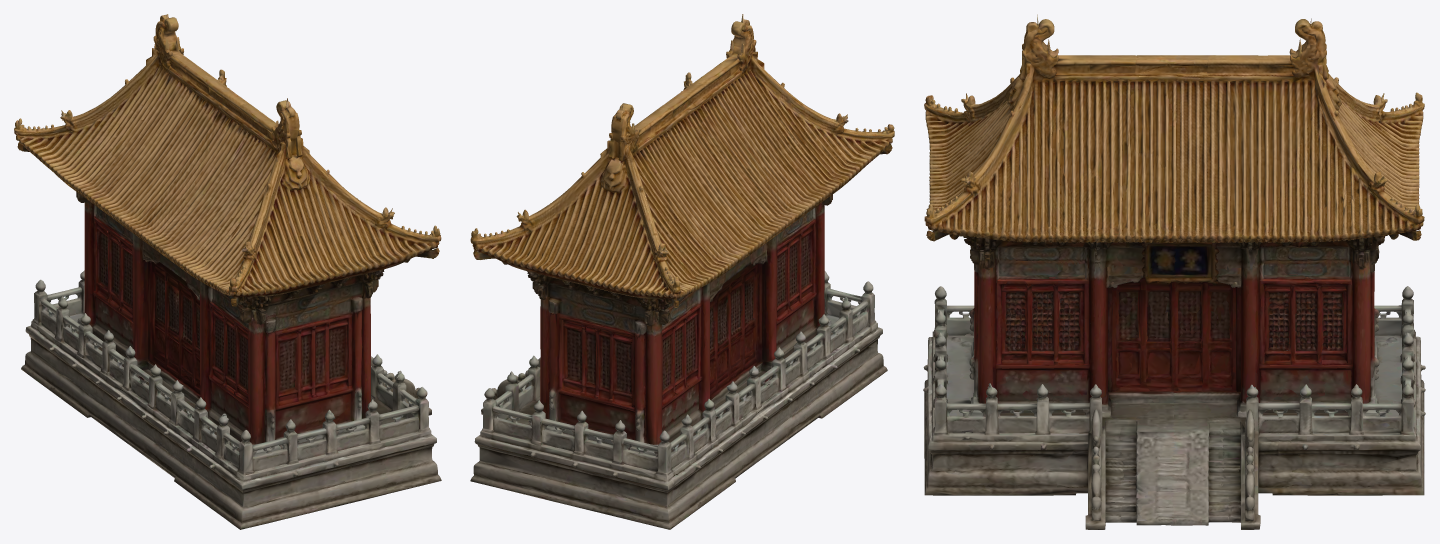
Rendered from hall-b.glb.
3 renders of one model, left to right at view 1: azimuth 30°, elevation 25°; view 2: azimuth 150°, elevation 25°; view 3: azimuth 270°, elevation 25°, orthographic. The views are drawn at different scales.
Visible parts, largest first — view 1: tripo_node_54414791-bdba-46b3-8540-ac7bb7c17b64; view 2: tripo_node_54414791-bdba-46b3-8540-ac7bb7c17b64; view 3: tripo_node_54414791-bdba-46b3-8540-ac7bb7c17b64.
Boxes of the visible parts, box(x1,y1,x2,y2) form: tripo_node_54414791-bdba-46b3-8540-ac7bb7c17b64: box(14, 14, 441, 529); tripo_node_54414791-bdba-46b3-8540-ac7bb7c17b64: box(470, 14, 894, 529); tripo_node_54414791-bdba-46b3-8540-ac7bb7c17b64: box(923, 14, 1425, 529).
Bounding box in the file's own units: 0.6948 × 0.91 × 0.9776.
1 material, 1 textured.
